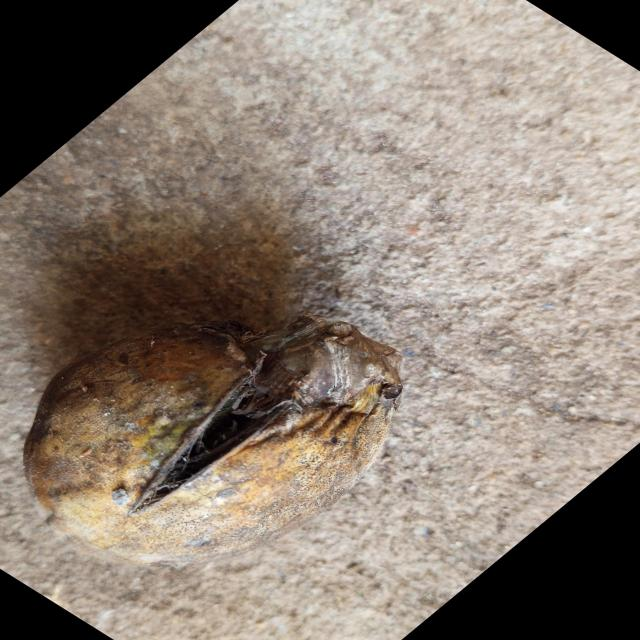damaged: (22, 307, 403, 572)
